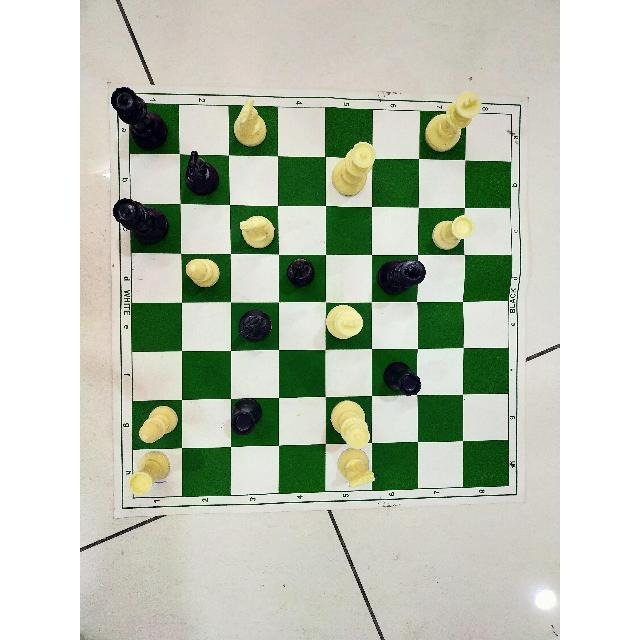black-bishop: (284, 257, 316, 291)
black-king: (376, 257, 428, 296)
black-knight: (183, 148, 221, 198), (237, 307, 274, 345)
black-queen: (108, 85, 170, 151), (110, 196, 171, 248)
black-rook: (381, 359, 424, 397), (229, 395, 265, 437)
white-bishop: (137, 404, 179, 446), (185, 254, 223, 290)
white-king: (423, 90, 483, 154), (323, 303, 364, 342)
white-knight: (232, 95, 268, 150), (334, 447, 378, 491), (238, 213, 276, 251)
white-queen: (330, 139, 380, 199), (326, 398, 373, 450)
white-rook: (125, 448, 172, 498), (429, 214, 475, 252)
